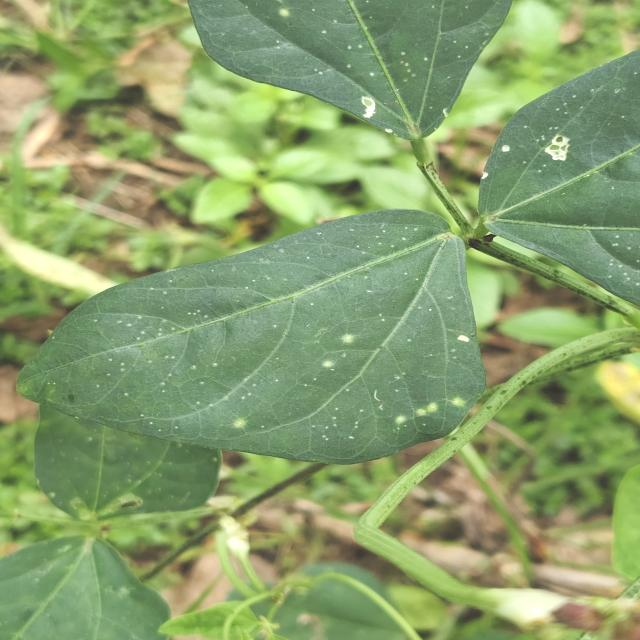sitaw-aphid-high: (18, 209, 485, 463), (188, 0, 512, 142), (479, 50, 640, 295), (35, 405, 222, 520), (0, 536, 170, 640)
